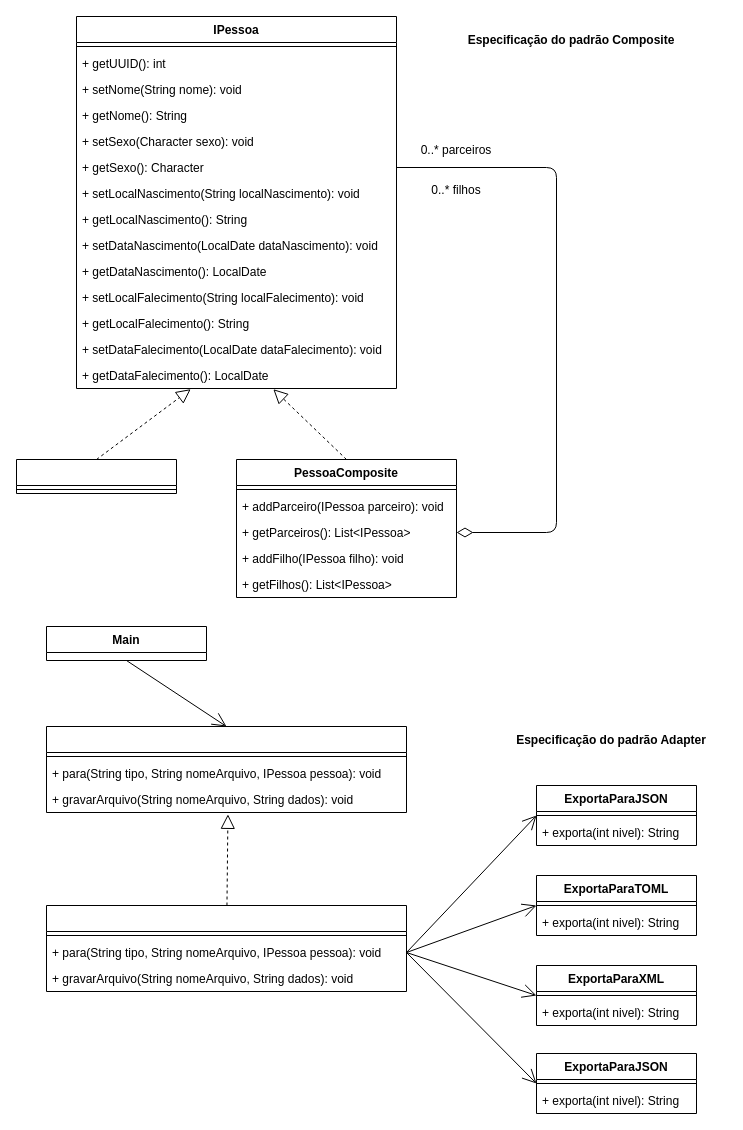
This 743x1130 diagram has some shape labels left out. Here are the shapes that lost their labels. From the top down, the box of each, then its label:
(16, 458, 176, 494): PessoaLeaf
(46, 726, 406, 812): IExporta
(46, 904, 406, 992): Exporta
